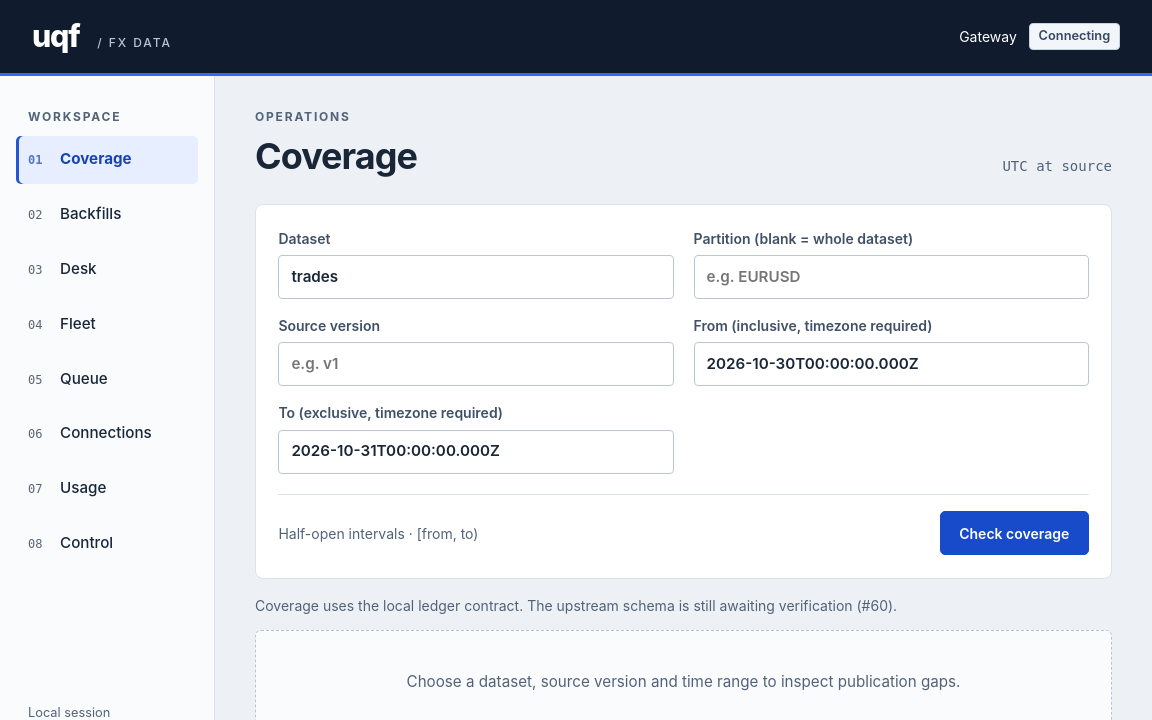
Scenario: offers nothing actionable when writes are disabled, and says which variable enables them
Click the button "08 Control" at (107, 543), box [16, 519, 198, 568]
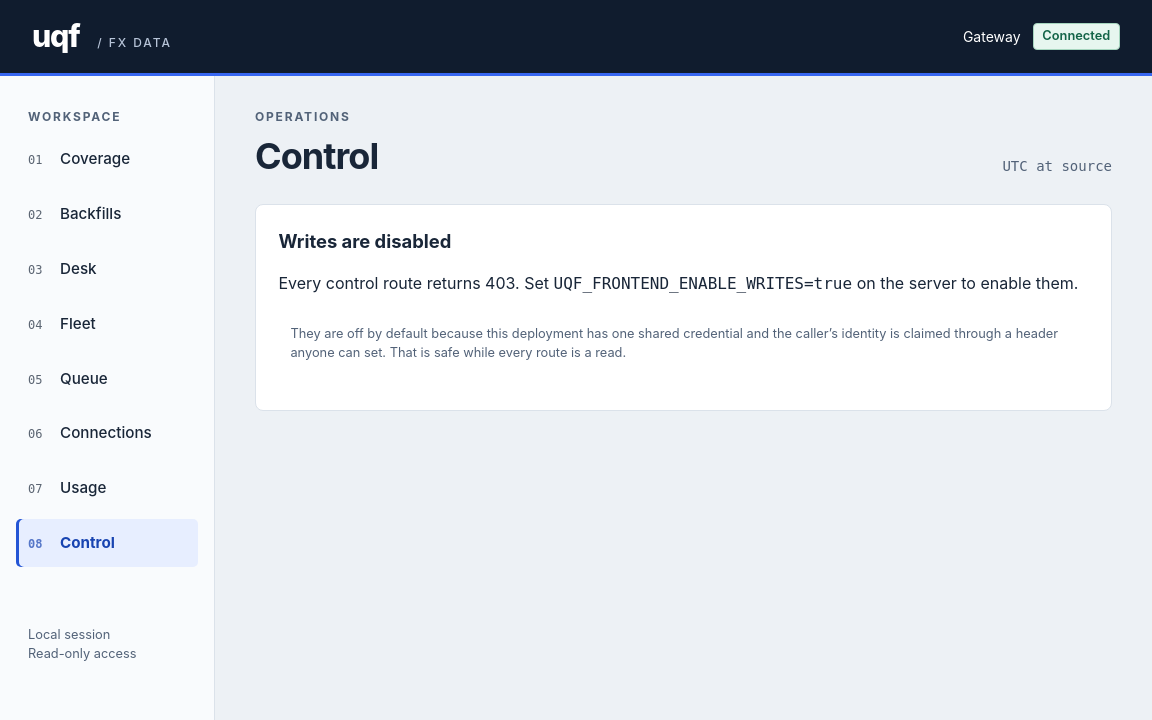
Expected: the heading "Writes are disabled" is shown, [278, 230, 451, 252]
Expected: the text "UQF_FRONTEND_ENABLE_WRITES=true" is shown, [554, 274, 852, 293]
